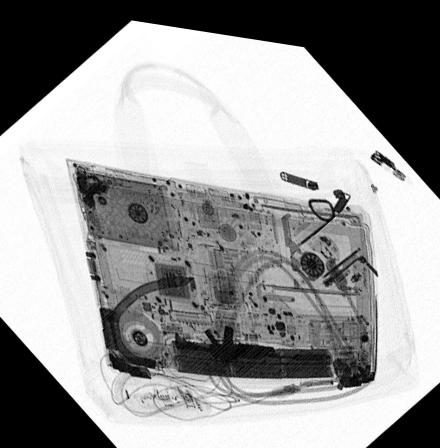Gun: (172, 316, 335, 354)
